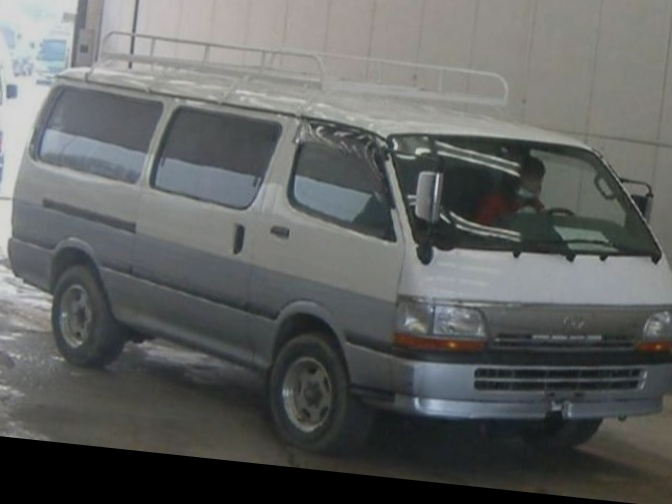van: (0, 19, 672, 481)
